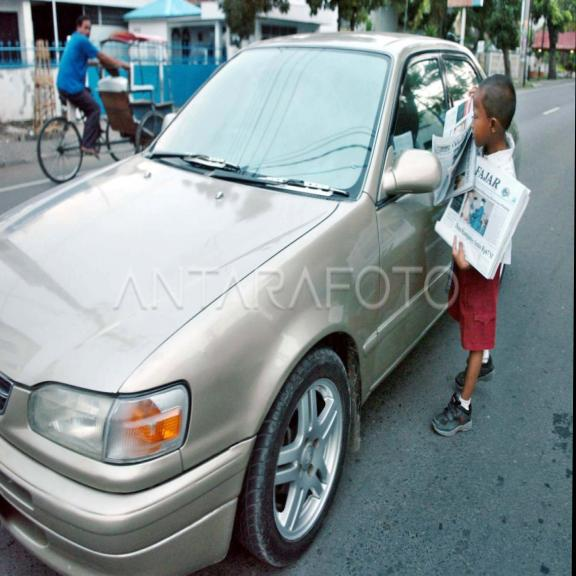Kertas: (449, 157, 528, 269)
